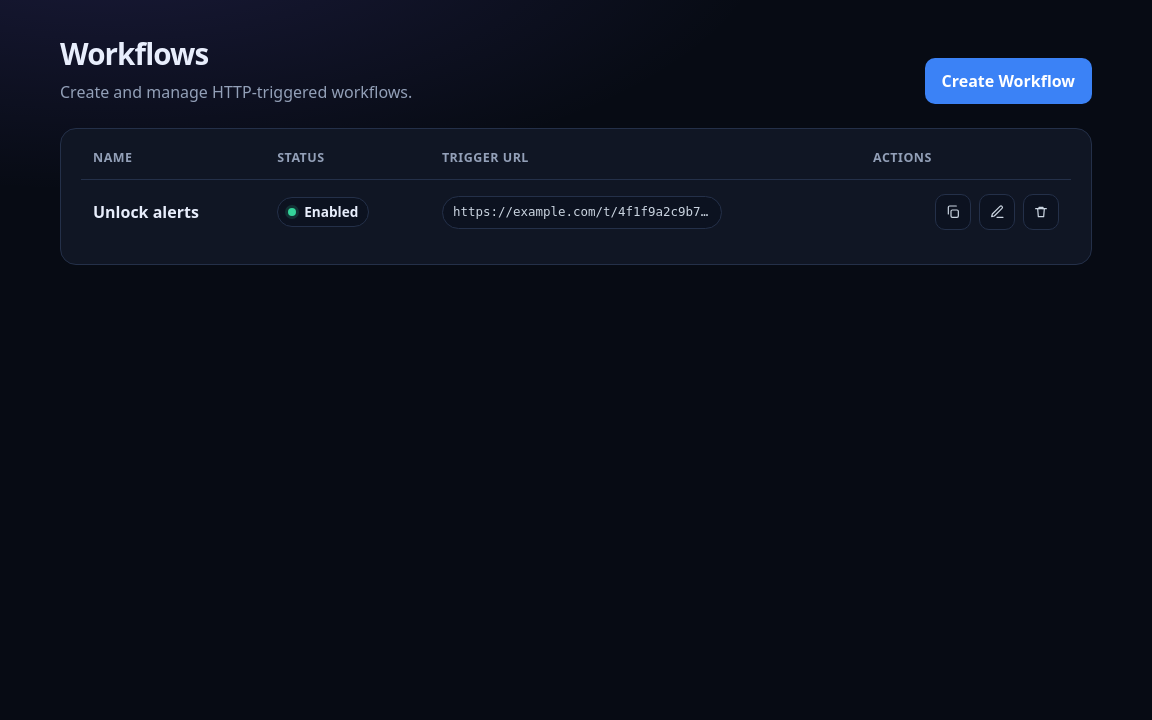
Scenario: WorkflowList › deletes a workflow after confirmation
Click the button named "Delete Unlock alerts": (1041,212) [1023, 194, 1059, 230]
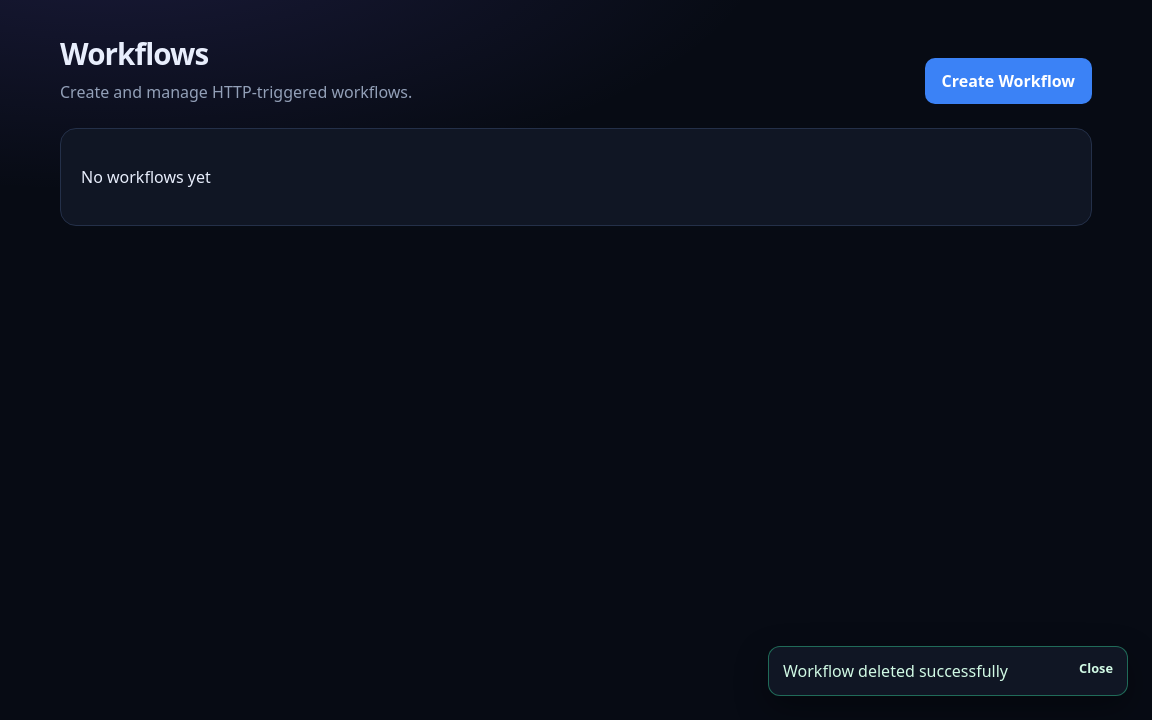
Expected: the text "Unlock alerts" is gone
Expected: the text "Workflow deleted successfully" is shown, [783, 659, 1008, 683]
